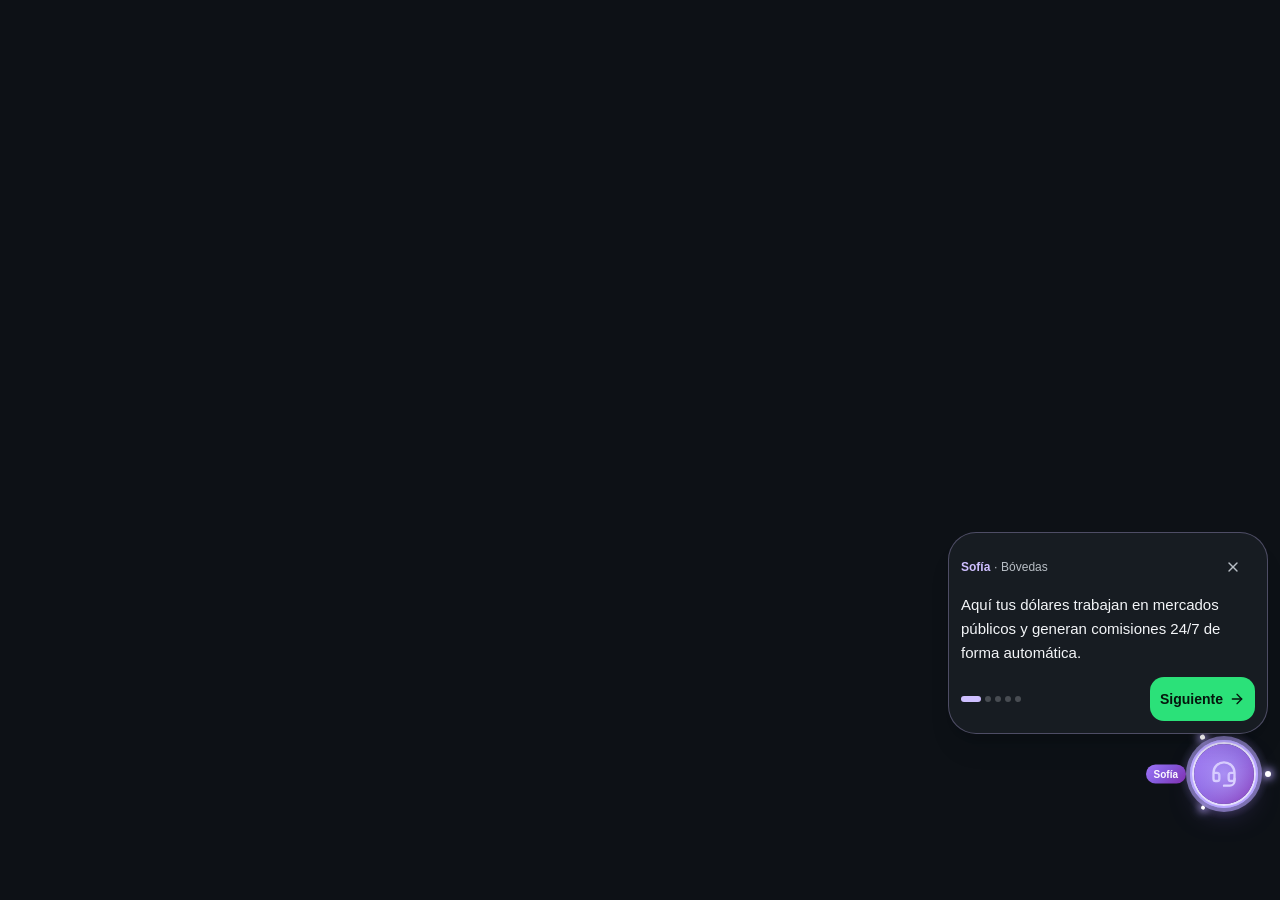
identity-verification disclosure in the tours › shows the same note in Sofía's wallet station during the flying tour
Expected: the 2nd text "Sofía" is shown, [1146,764,1186,784]
Step 1. Click the button "Siguiente" → (1202, 699), box [1150,677,1255,721]
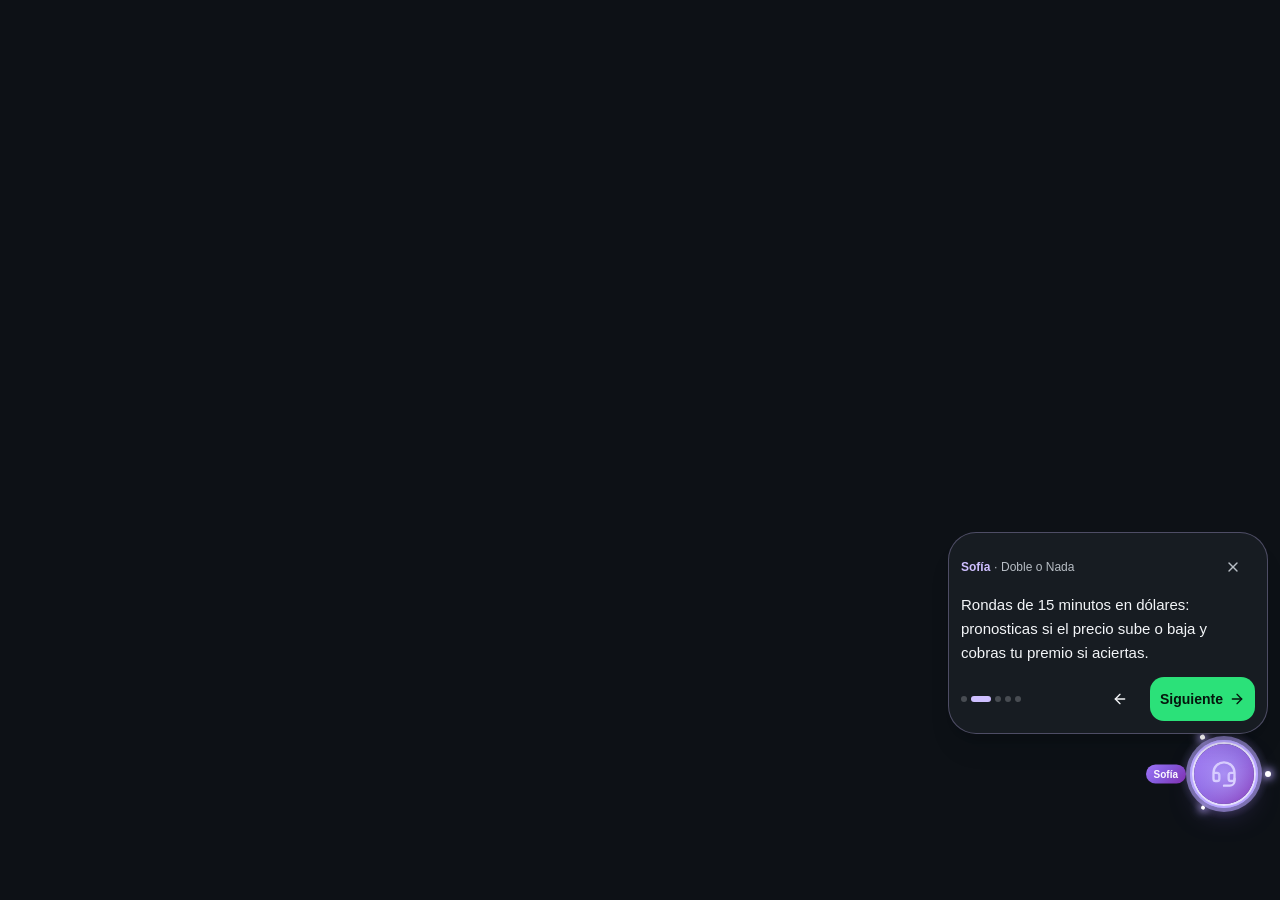
Step 2. Click the button "Siguiente" → (1202, 699), box [1150,677,1255,721]
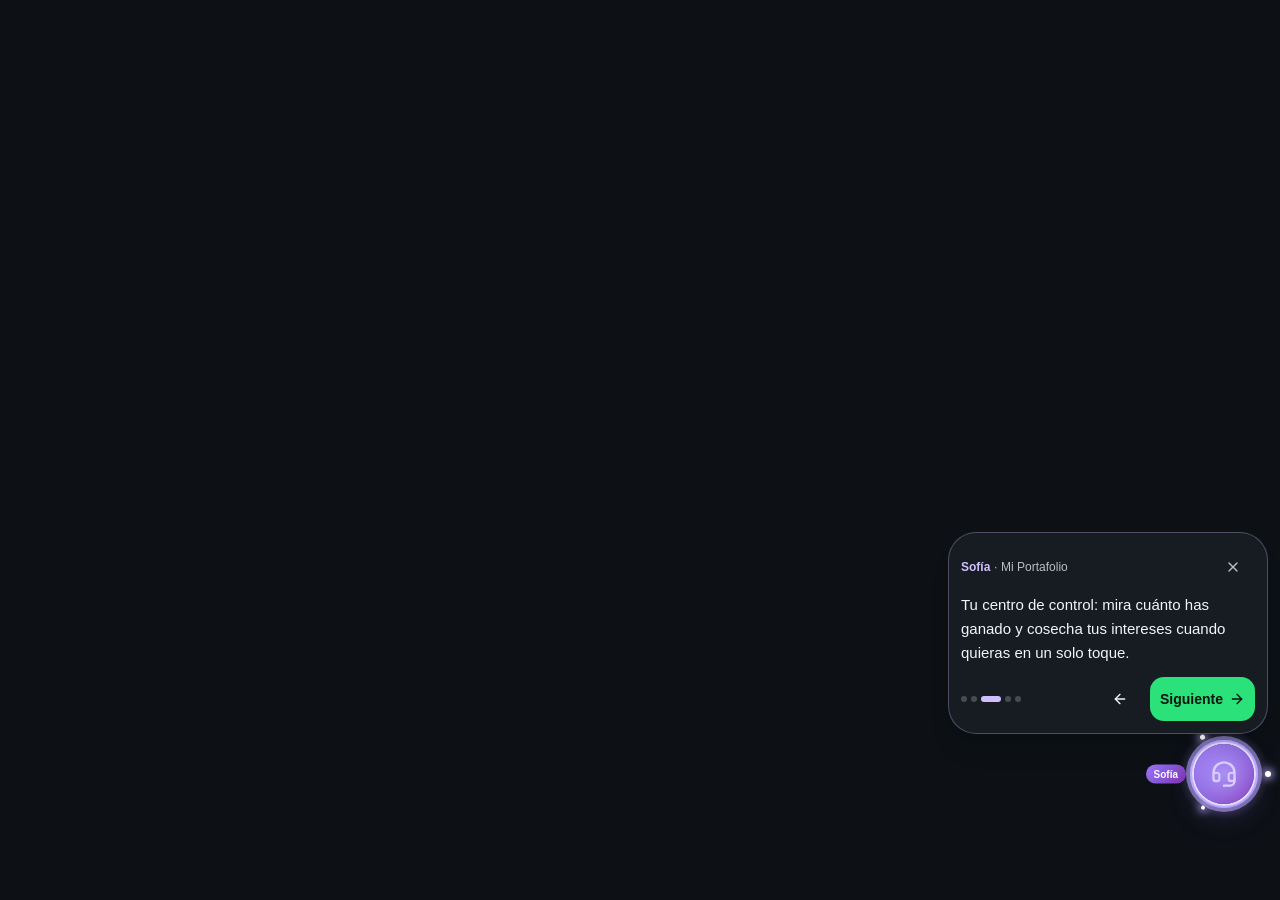
Step 3. Click the button "Siguiente" → (1202, 699), box [1150,677,1255,721]
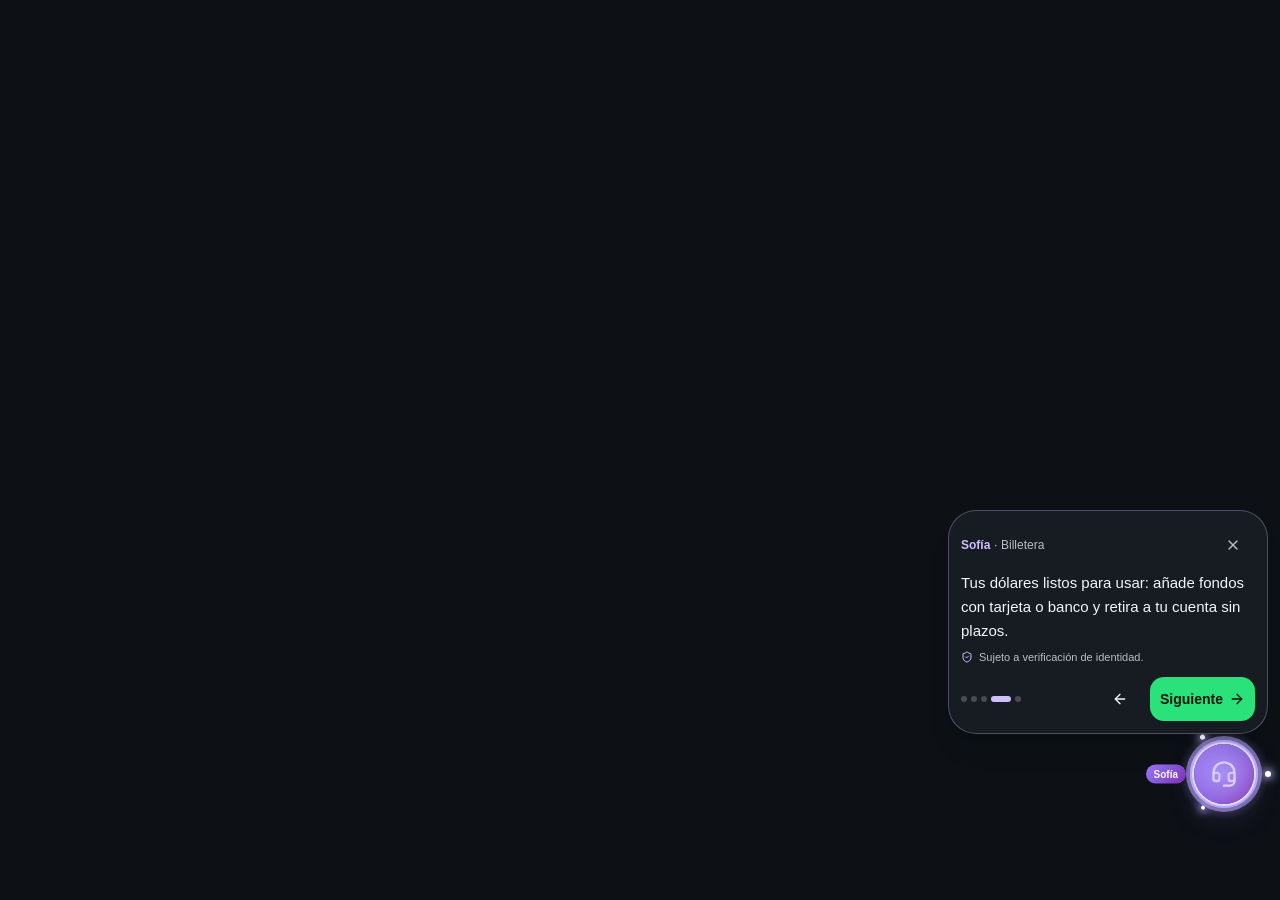
Result: the text "Sujeto a verificación de identidad." is shown at [961,651,1144,663]
